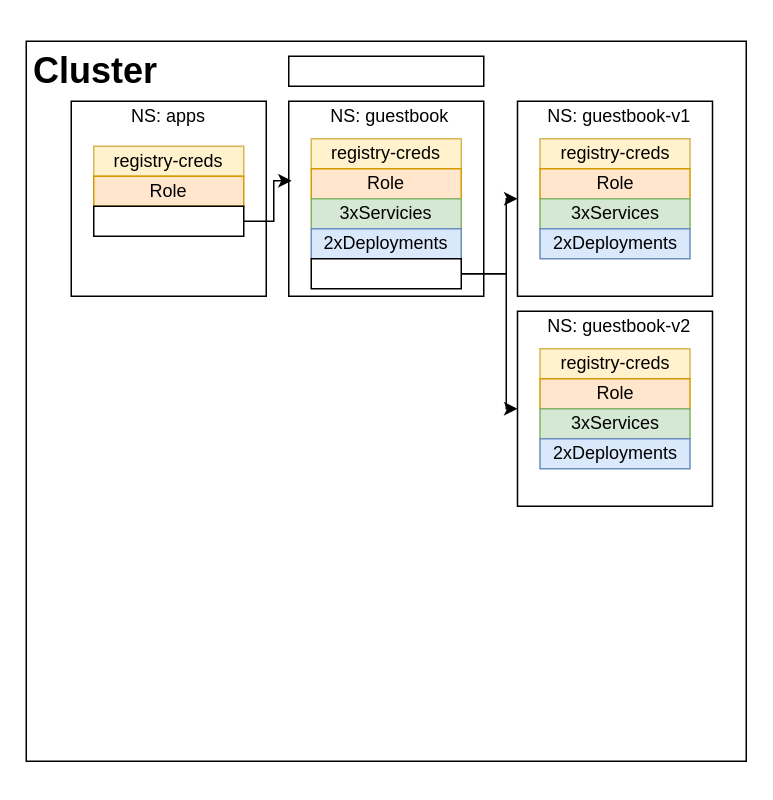
Some shapes in this 773 by 800 pixel diagram are drawn without their labels. Each missing label, with the centre of its shape:
2xsubnamespace: point (385, 273)
HNCConfiguration: point (385, 70)
subnamespace: point (168, 220)
